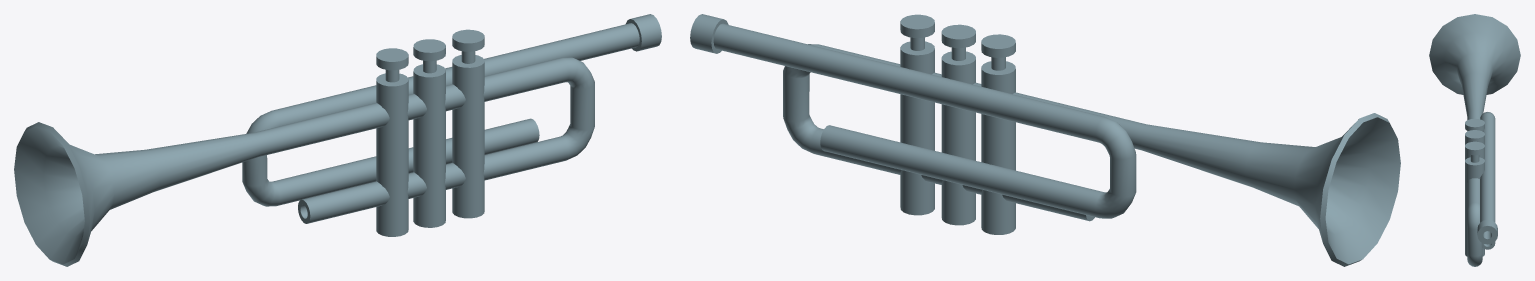
The model's file is Trumpet.fbx.
3 views of the same model, side by side, from view 1: azimuth 30°, elevation 25°; view 2: azimuth 150°, elevation 25°; view 3: azimuth 270°, elevation 25° (orthographic). The views are drawn at different scales.
Visible parts, largest first — view 1: Trumpet; view 2: Trumpet; view 3: Trumpet.
Part boxes in pixels (bbox=[...]): Trumpet: bbox=[14, 14, 661, 266]; Trumpet: bbox=[690, 14, 1400, 266]; Trumpet: bbox=[1429, 14, 1520, 266].
Size of the model in its own units: 85.82 by 24.79 by 17.95.
